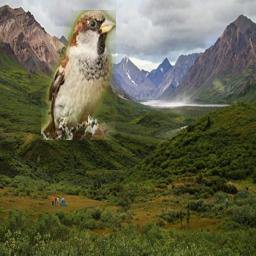Sparrow: (41, 10, 116, 140)
